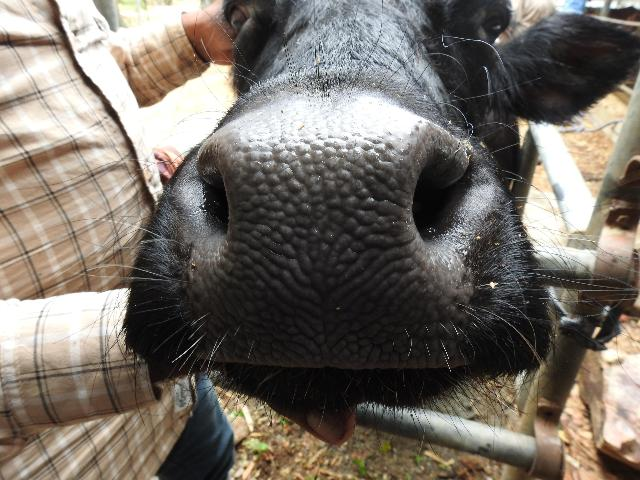Muzzle: (228, 130, 412, 362)
